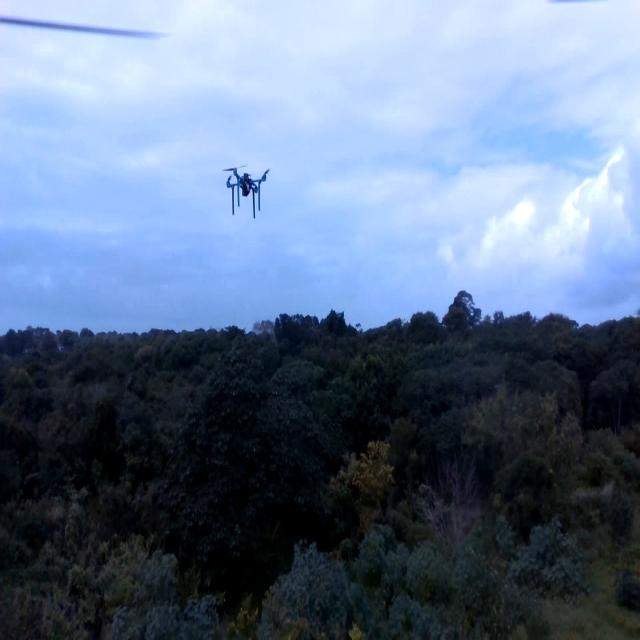-uav-: (220, 154, 273, 219)
